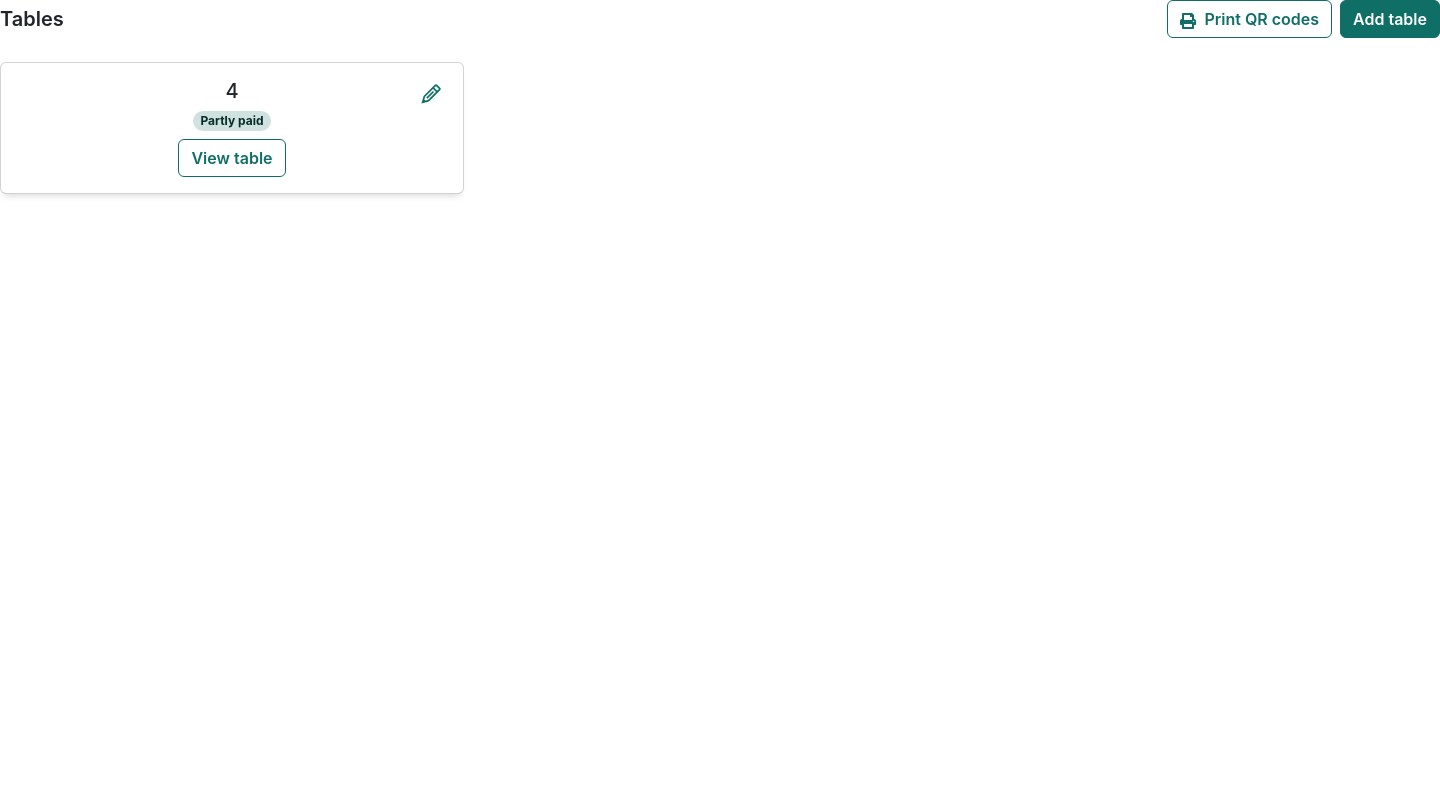
Scenario: a card payment on the table sheet › names Stripe for one that didn't go through and for a refund in progress
Click the button with aria-label "View table 4". click: x=232, y=158
box: [178,139,286,177]
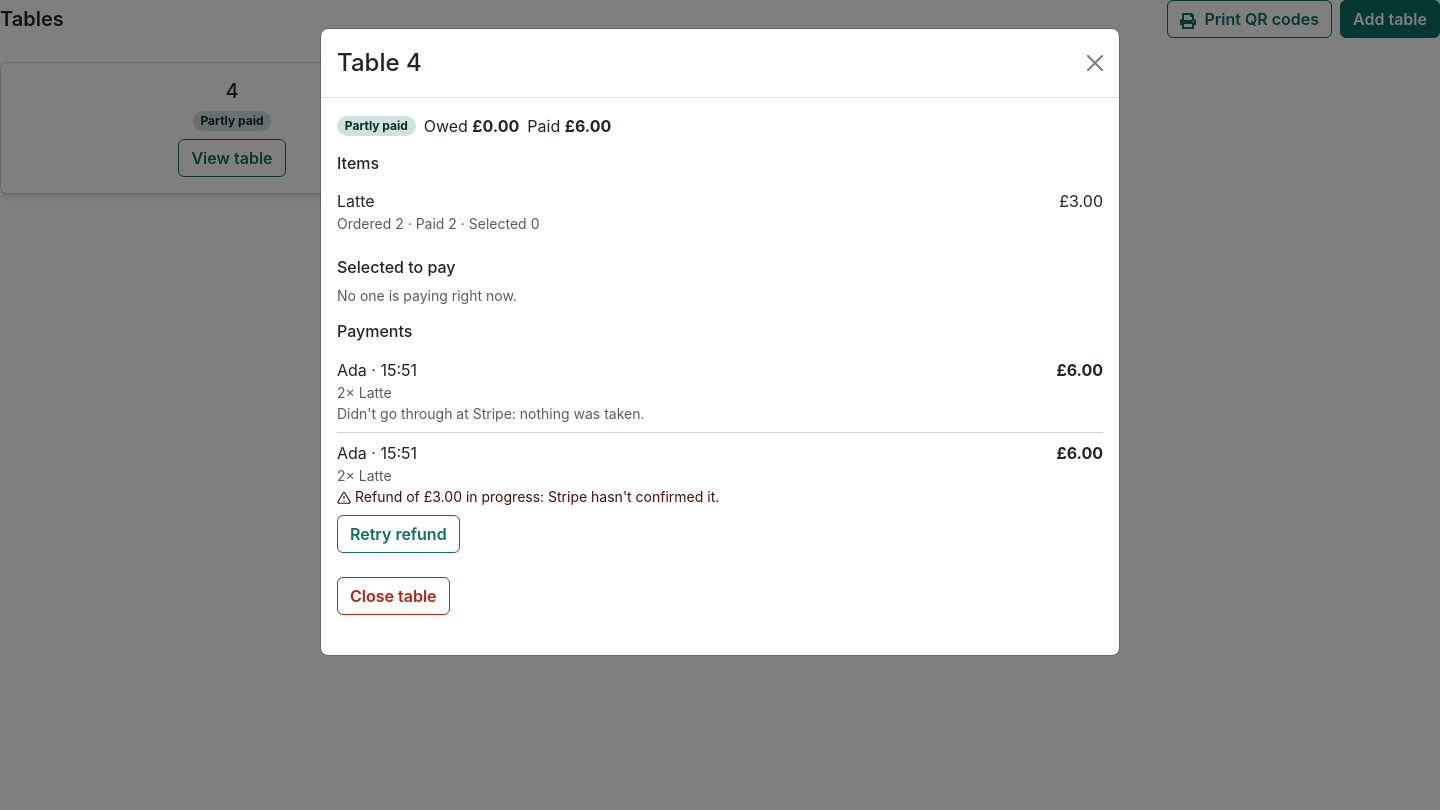
Result: the text "Didn't go through at Stripe: nothing was taken." is shown at [337,405,644,422]
Result: the text "Refund of £3.00 in progress" shows "Refund of £3.00 in progress: Stripe hasn't confirmed it." at [337,488,719,553]
